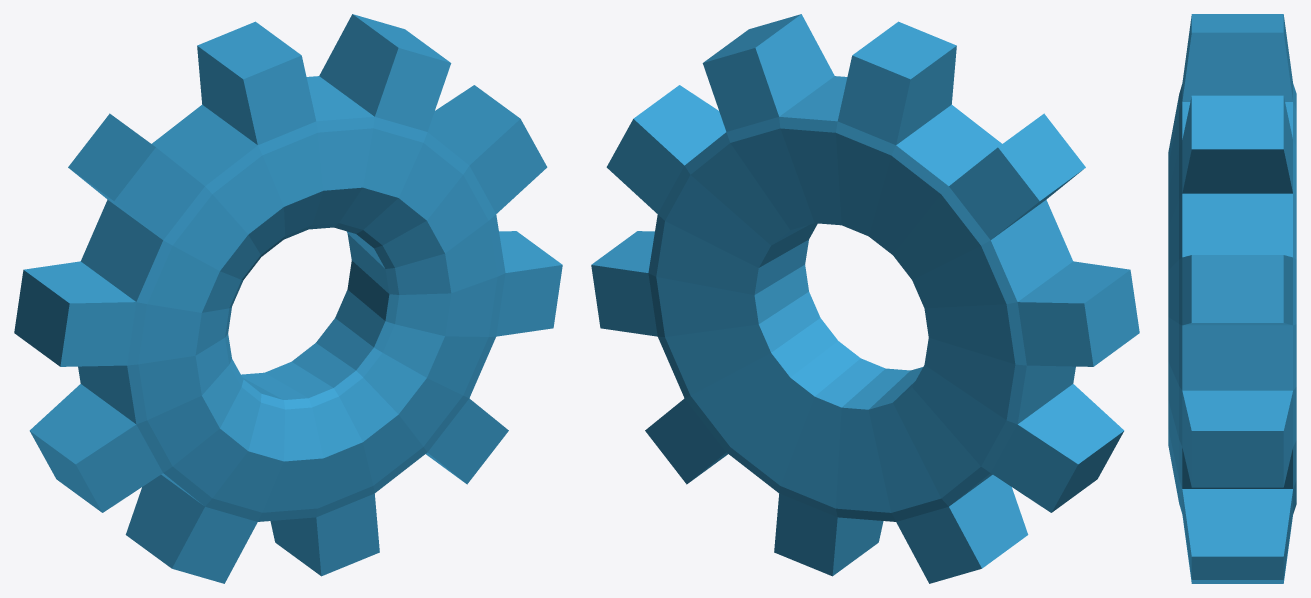
File: Gear_Diam_02_Size_2.fbx
The picture shows the model from 3 angles, left to right: view 1: azimuth 30°, elevation 25°; view 2: azimuth 150°, elevation 25°; view 3: azimuth 270°, elevation 25°; orthographic projection.
Visible parts, largest first — view 1: Gear_Diam_02_Size_2; view 2: Gear_Diam_02_Size_2; view 3: Gear_Diam_02_Size_2.
Part boxes in pixels (x1,y1,x2,y2): Gear_Diam_02_Size_2: (14, 14, 562, 583); Gear_Diam_02_Size_2: (591, 14, 1139, 583); Gear_Diam_02_Size_2: (1168, 14, 1296, 583).
Bounding box in the file's own units: 14.73 × 14.73 × 3.28.
